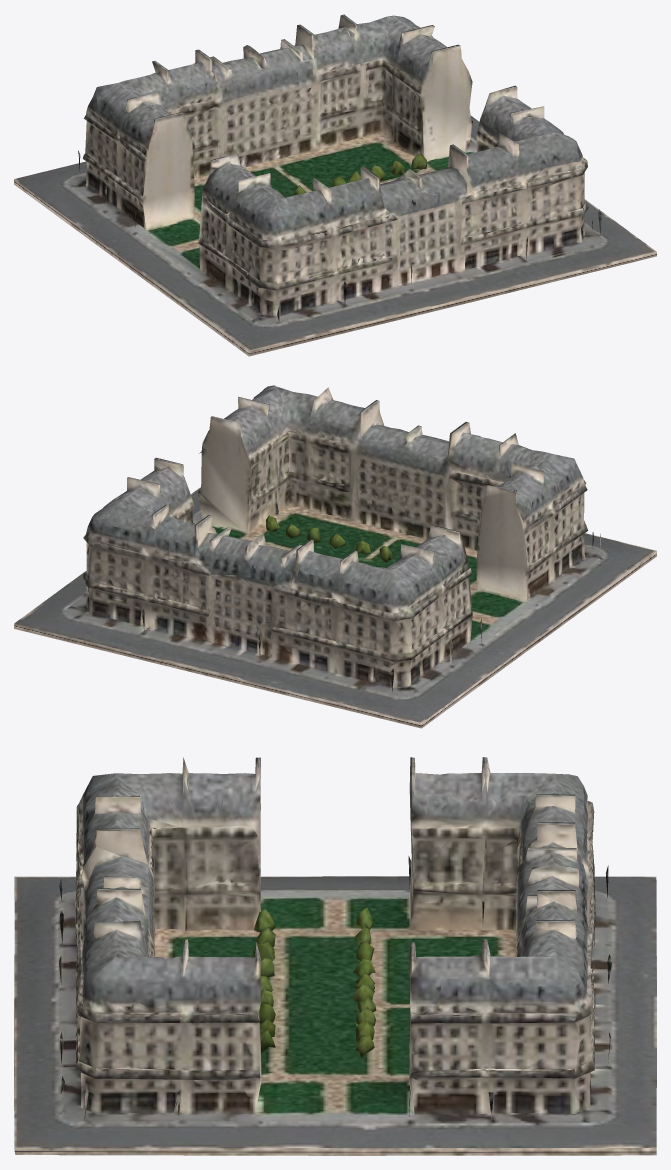
Rendered from paris_xfar.glb.
The picture shows the model from 3 angles, top to bottom: view 1: azimuth 30°, elevation 25°; view 2: azimuth 150°, elevation 25°; view 3: azimuth 270°, elevation 25°; orthographic projection. The views are drawn at different scales.
Visible parts, largest first — view 1: paris; view 2: paris; view 3: paris.
Boxes of the visible parts, bbox=[...] form: paris: bbox=[14, 14, 656, 356]; paris: bbox=[14, 385, 656, 728]; paris: bbox=[14, 757, 656, 1155].
Size of the model in its own units: 1.9 by 0.5334 by 1.9.
1 material, 1 textured.
